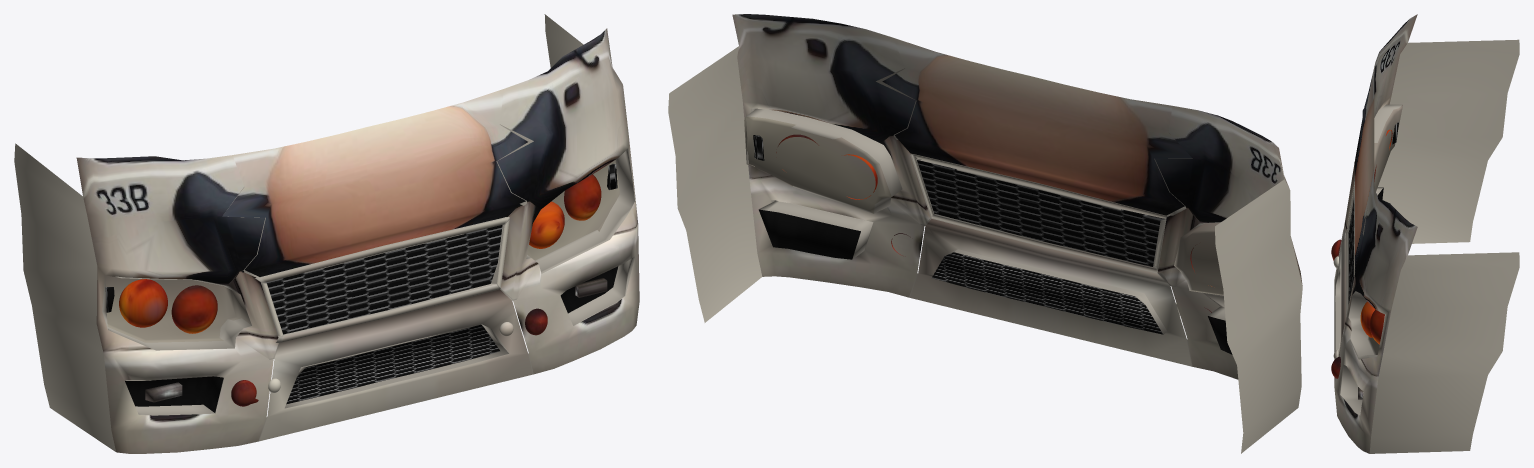
File: capo_bus.obj
3 views of the same model, side by side, from view 1: azimuth 30°, elevation 25°; view 2: azimuth 150°, elevation 25°; view 3: azimuth 270°, elevation 25° (orthographic). The views are drawn at different scales.
Visible parts, largest first — view 1: capo, luces; view 2: capo, luces; view 3: capo, luces.
Part boxes in pixels (x1,y1,x2,y2): capo: (14, 14, 639, 453); luces: (105, 164, 617, 406); capo: (668, 14, 1302, 453); luces: (753, 134, 1211, 315); capo: (1334, 14, 1519, 453); luces: (1331, 122, 1398, 399).
Size of the model in its own units: 1.76 by 0.8739 by 0.6463.
